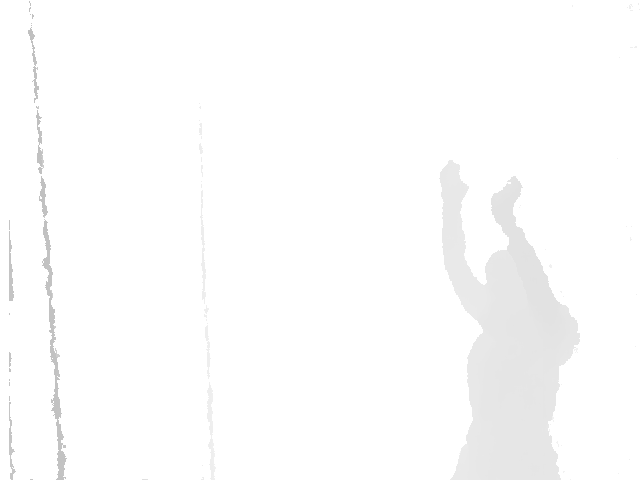hand: (437, 159, 471, 206), (489, 174, 523, 221)
head: (481, 246, 532, 312)
person: (434, 158, 584, 480)
